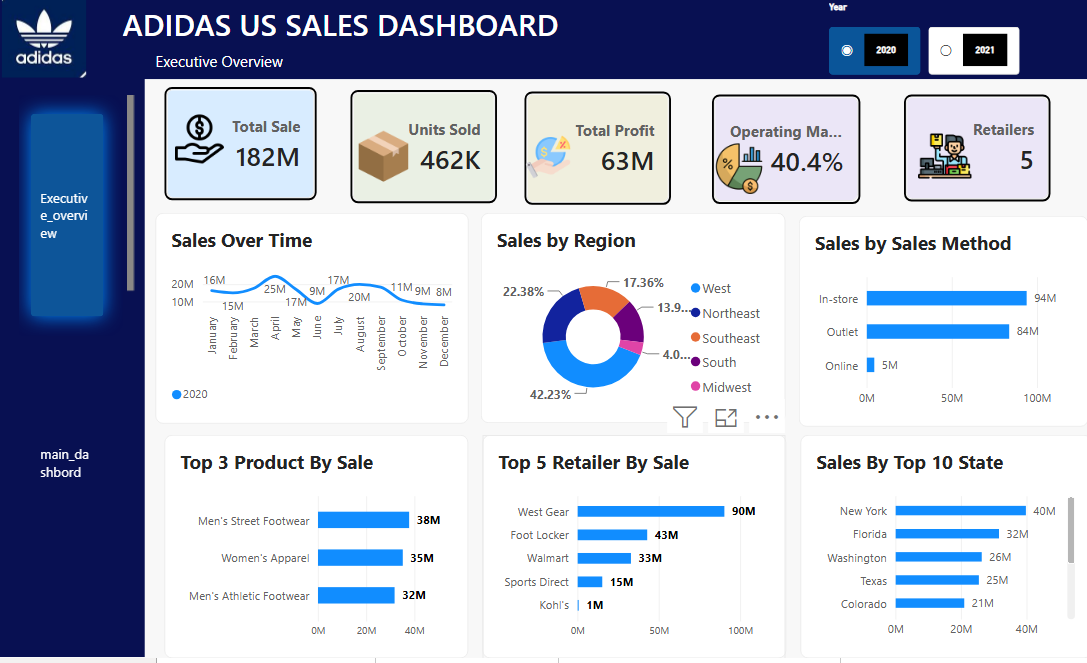

This screenshot's page, from the dashboard's own definition file:
{"tool":"powerbi","page":{"name":"Executive_overview","canvas":[1280,720],"ordinal":0},"visuals":[{"type":"shape","box":[4.8,19.1,1154.8,87.5],"z":0},{"type":"textbox","box":[135.6,25.6,543.3,60],"z":1000},{"type":"image","box":[0,21.2,104.1,84.1],"z":2000},{"type":"textbox","box":[170,75.6,145,23.6],"z":3000},{"type":"advancedSlicerVisual","fields":{"Values":["Date_matster_table.Year"]},"box":[885,23.8,203.3,77.8],"z":4000},{"type":"cardVisual","fields":{"Data":["Sum(Adidas Sales.Total Sales)"]},"box":[179.8,113.9,161,120],"z":5000},{"type":"shape","box":[4.3,105.7,154.3,614.3],"z":6000},{"type":"cardVisual","fields":{"Data":["Sum(Adidas Sales.Units Sold)"]},"box":[377.4,118,155,120],"z":7000},{"type":"cardVisual","fields":{"Data":["Sum(Adidas Sales.Operating Profit)"]},"box":[561.2,119.4,155,120],"z":8000},{"type":"cardVisual","fields":{"Data":["Adidas Sales.Total Retailers"]},"box":[963.3,122.1,155,113],"z":9000},{"type":"image","box":[190.7,141.3,52,56],"z":10000},{"type":"image","box":[385.6,155.1,54,67],"z":11000},{"type":"image","box":[561.2,161.9,50,52],"z":12000},{"type":"image","box":[972.9,159.2,67.1,57.1],"z":13000},{"type":"lineChart","title":"Sales Over Time","fields":{"Category":["Date_matster_table.month_name"],"Y":["Sum(Adidas Sales.Total Sales)"],"Series":["Date_matster_table.Year"]},"box":[170,248.9,332.2,223.3],"z":14000},{"type":"donutChart","title":"Sales by Region","fields":{"Y":["Sum(Adidas Sales.Total Sales)"],"Category":["Adidas Sales.Region"]},"box":[515,248.3,322.5,222.5],"z":15000},{"type":"clusteredBarChart","title":"Sales by Sales Method","fields":{"Category":["Adidas Sales.Sales Method"],"Y":["Sum(Adidas Sales.Total Sales)"]},"box":[853.3,251.7,306.7,223.3],"z":16000},{"type":"clusteredBarChart","title":"Top 3 Product By Sale","fields":{"Category":["Adidas Sales.Product"],"Y":["Sum(Adidas Sales.Total Sales)"]},"box":[180,483.3,321.7,236.7],"z":17000},{"type":"clusteredBarChart","title":"Top 5 Retailer By Sale","fields":{"Category":["Adidas Sales.Retailer"],"Y":["Sum(Adidas Sales.Total Sales)"]},"box":[516.7,483.3,321.7,236.7],"z":18000},{"type":"clusteredBarChart","title":"Sales By Top 10 State","fields":{"Category":["Adidas Sales.State"],"Y":["Sum(Adidas Sales.Total Sales)"]},"box":[853.8,483.8,308.3,236.7],"z":19000},{"type":"cardVisual","fields":{"Data":["Avg(Adidas Sales.Operating Margin)"]},"box":[760.2,122.1,157.1,115.7],"z":20000},{"type":"image","box":[760.3,163.8,57.3,74.8],"z":21000},{"type":"pageNavigator","box":[17.5,122.5,130,522.5],"z":22000}]}

Visuals, with their boxes on the page's 1280x720 design canvas (x1, y1, x2, y2). These are canvas units, not pixel positions in the 1087x663 screenshot, which may show the page scaled, cropped or inside an application window:
shape: 5/19/1160/107
textbox: 136/26/679/86
image: 0/21/104/105
textbox: 170/76/315/99
advancedSlicerVisual - Date_matster_table.Year: 885/24/1088/102
cardVisual - Sum(Adidas Sales.Total Sales): 180/114/341/234
shape: 4/106/159/720
cardVisual - Sum(Adidas Sales.Units Sold): 377/118/532/238
cardVisual - Sum(Adidas Sales.Operating Profit): 561/119/716/239
cardVisual - Adidas Sales.Total Retailers: 963/122/1118/235
image: 191/141/243/197
image: 386/155/440/222
image: 561/162/611/214
image: 973/159/1040/216
"Sales Over Time" lineChart: 170/249/502/472
"Sales by Region" donutChart: 515/248/838/471
"Sales by Sales Method" clusteredBarChart: 853/252/1160/475
"Top 3 Product By Sale" clusteredBarChart: 180/483/502/720
"Top 5 Retailer By Sale" clusteredBarChart: 517/483/838/720
"Sales By Top 10 State" clusteredBarChart: 854/484/1162/720
cardVisual - Avg(Adidas Sales.Operating Margin): 760/122/917/238
image: 760/164/818/239
pageNavigator: 18/122/148/645
